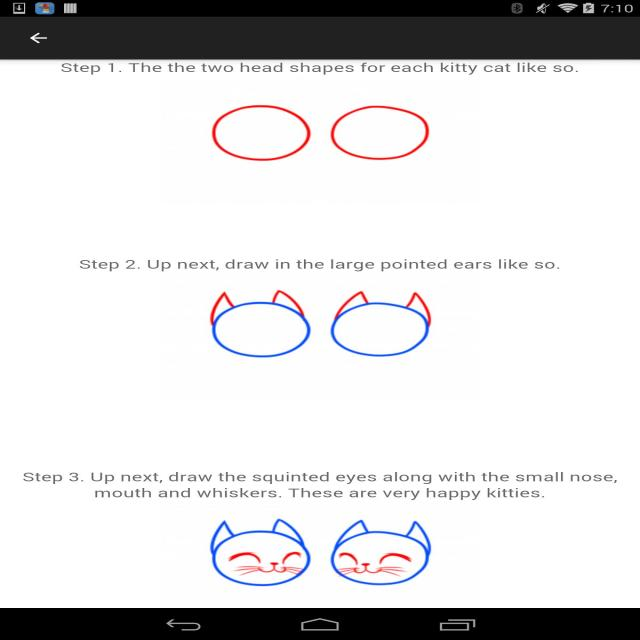button: (22, 27, 56, 53)
image: (194, 99, 440, 166), (210, 288, 433, 359), (209, 517, 434, 586)
text: (20, 468, 620, 502), (58, 62, 582, 78), (72, 256, 566, 271)
